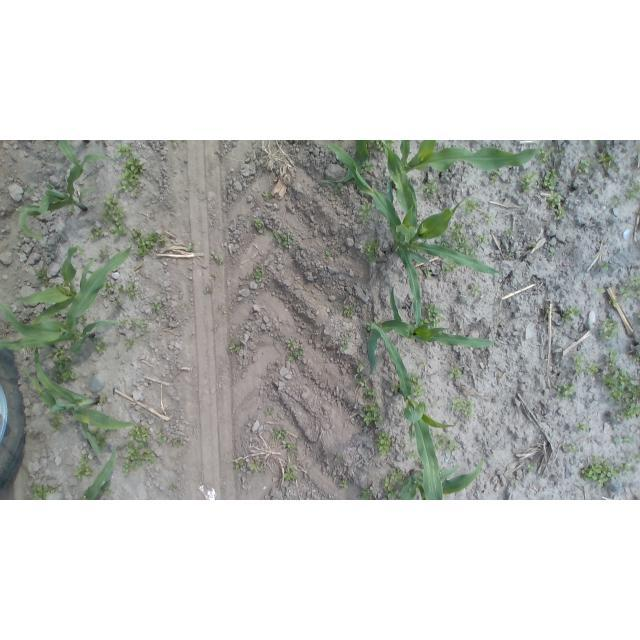Maize: (329, 140, 501, 328), (368, 317, 457, 500), (0, 246, 132, 355), (26, 349, 142, 458), (365, 288, 496, 372), (15, 140, 118, 246), (389, 140, 537, 192), (11, 243, 102, 326), (395, 457, 486, 500), (321, 140, 372, 185), (77, 449, 118, 500)
Weeds: (605, 368, 639, 421), (581, 457, 632, 487), (118, 152, 147, 198), (102, 193, 129, 240), (124, 443, 157, 476), (49, 346, 76, 384), (130, 229, 164, 257), (452, 223, 473, 256), (452, 396, 475, 421), (548, 191, 567, 221), (361, 403, 384, 427), (435, 434, 461, 455), (619, 273, 640, 299), (75, 452, 93, 480), (287, 338, 306, 363), (129, 425, 151, 446), (538, 168, 558, 191), (31, 484, 58, 501), (598, 152, 619, 172), (425, 303, 443, 326), (410, 374, 427, 398), (375, 431, 392, 455), (520, 170, 537, 193), (37, 265, 54, 288), (364, 238, 380, 262), (390, 470, 408, 491), (353, 362, 367, 388), (561, 305, 580, 324), (600, 320, 618, 340), (274, 229, 293, 247), (624, 181, 640, 202), (555, 383, 575, 399), (384, 475, 396, 500), (92, 430, 107, 450), (359, 202, 373, 223), (371, 141, 397, 152), (88, 225, 104, 241), (605, 350, 620, 367), (49, 413, 63, 431), (252, 218, 267, 234), (424, 180, 439, 196), (116, 143, 133, 157), (572, 354, 584, 373), (577, 158, 592, 173), (538, 148, 553, 163), (130, 317, 148, 329), (284, 465, 297, 481), (613, 436, 636, 445), (359, 486, 374, 499), (227, 341, 241, 354), (94, 339, 107, 353), (272, 427, 287, 439), (442, 262, 458, 273), (127, 282, 137, 299), (465, 201, 478, 214), (450, 365, 462, 379), (172, 437, 187, 448), (411, 316, 426, 327), (112, 296, 124, 309), (422, 266, 435, 278), (343, 304, 355, 317), (587, 363, 599, 376), (470, 283, 482, 296), (436, 237, 450, 248), (629, 451, 640, 465), (563, 443, 578, 453), (253, 268, 263, 283), (491, 170, 501, 185), (365, 322, 381, 331), (211, 252, 223, 264), (576, 421, 589, 432), (104, 282, 115, 295), (324, 247, 335, 259), (364, 389, 376, 400), (477, 232, 488, 244), (249, 461, 261, 472), (98, 249, 109, 261), (338, 478, 350, 489), (331, 186, 344, 196), (362, 160, 372, 173), (152, 301, 163, 312), (526, 462, 537, 473), (282, 441, 297, 449), (125, 337, 135, 349), (157, 431, 165, 445), (342, 338, 350, 352), (77, 314, 88, 324), (118, 318, 128, 329), (612, 196, 622, 207), (98, 394, 108, 405), (394, 383, 403, 395), (117, 284, 126, 296), (218, 305, 228, 315), (407, 450, 417, 460), (484, 214, 495, 223), (505, 227, 516, 236), (235, 459, 244, 470), (593, 288, 607, 295), (28, 184, 36, 196), (546, 307, 558, 315), (169, 484, 179, 493), (103, 485, 112, 495), (632, 353, 640, 364), (508, 476, 517, 485), (601, 262, 610, 271), (170, 140, 180, 148), (205, 285, 213, 295), (558, 149, 566, 158), (610, 298, 619, 306), (265, 408, 273, 416), (262, 190, 270, 198), (328, 470, 334, 480), (187, 241, 193, 251), (211, 272, 219, 279), (549, 247, 556, 254), (508, 253, 515, 260), (335, 455, 342, 462), (276, 360, 282, 368), (529, 242, 535, 248), (589, 140, 597, 144), (477, 374, 485, 378), (416, 260, 421, 264), (290, 140, 294, 144), (637, 315, 640, 319)
